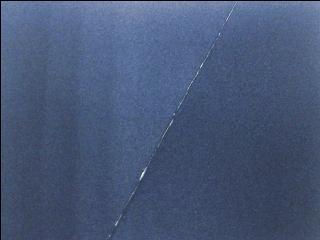crack: (103, 1, 242, 240)
